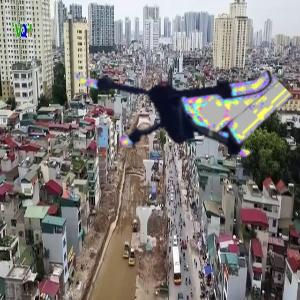drone: (78, 10, 265, 197)
